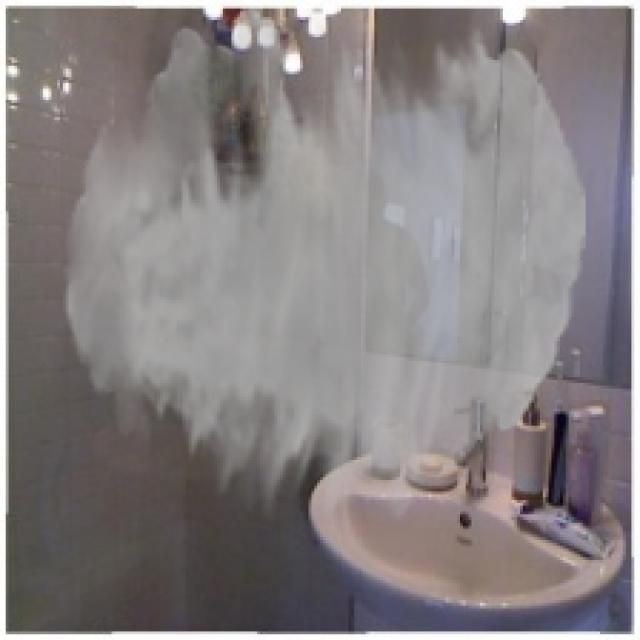smoke: (63, 8, 586, 526)
